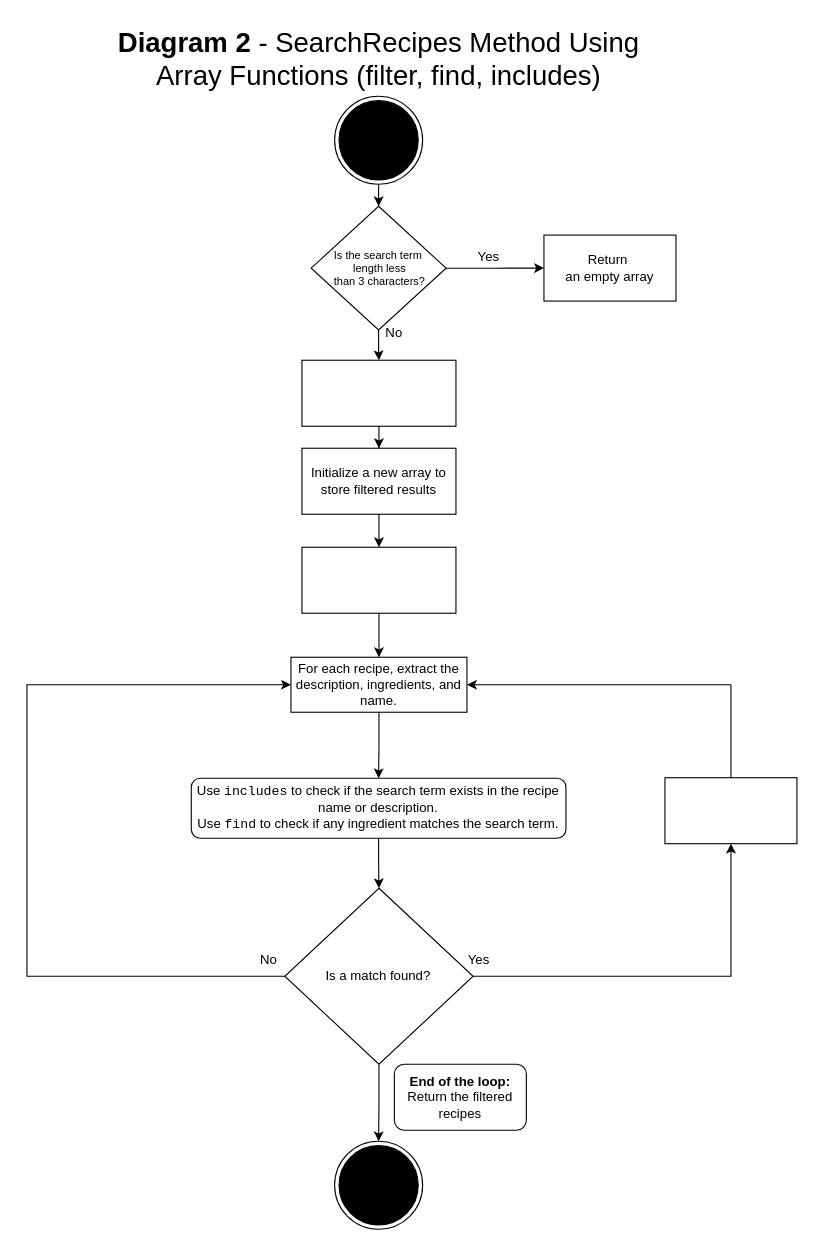
This 816x1249 diagram has some shape labels left out. Here are the shapes that lost their labels. From the top down, the centre of each, then its label:
At point 378,392: "Store the recipes from the JSON data".
At point 378,579: "Receive user request (enter 3 characters in the search bar)".
At point 730,810: "Recipe passes through the filter".
